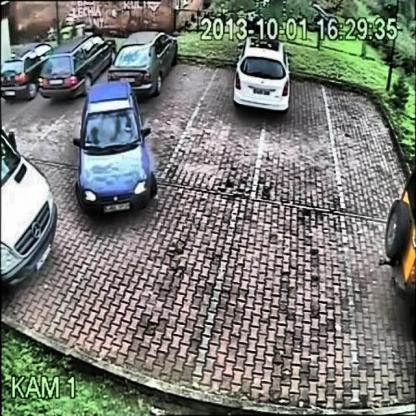free: (249, 232, 346, 386), (115, 234, 194, 362), (332, 80, 385, 151), (179, 56, 215, 120)
occupied: (0, 130, 57, 292), (235, 31, 293, 119), (120, 26, 172, 94), (2, 40, 40, 101), (53, 35, 102, 81)
